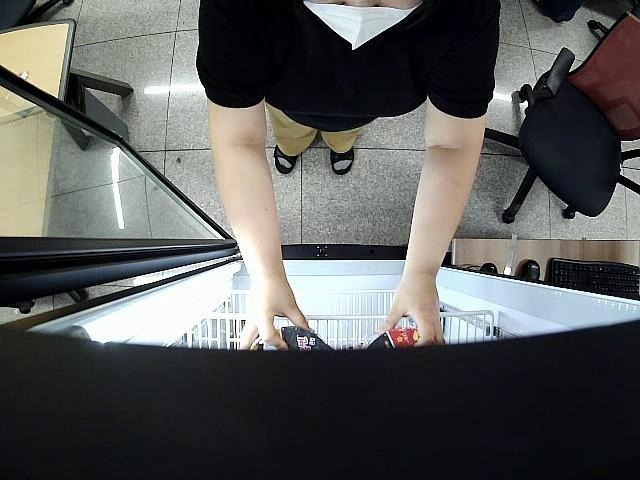07_buldak_L: (250, 326, 334, 355), (364, 328, 439, 350)
